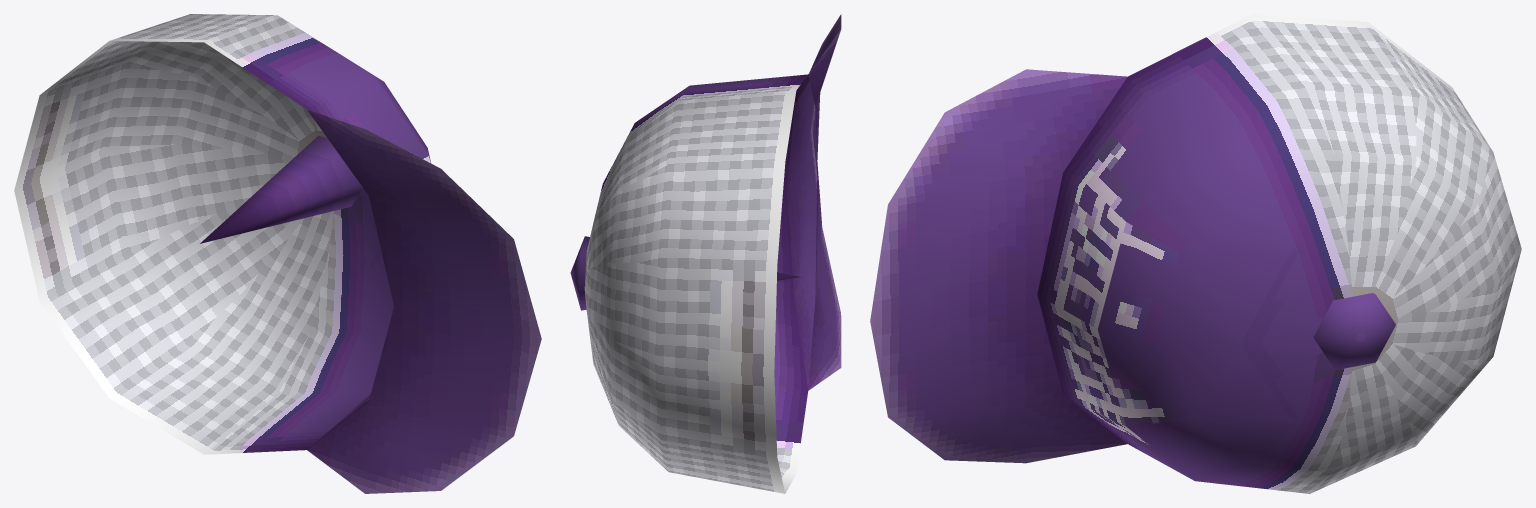
File: cap_cap_ppl.dae
The picture shows the model from 3 angles, left to right: view 1: azimuth 30°, elevation 25°; view 2: azimuth 150°, elevation 25°; view 3: azimuth 270°, elevation 25°; orthographic projection. The views are drawn at different scales.
Parts seen in each view (by area): view 1: cap_cap_ppl; view 2: cap_cap_ppl; view 3: cap_cap_ppl.
Part boxes in pixels (x1,y1,x2,y2): cap_cap_ppl: (14, 14, 541, 493); cap_cap_ppl: (570, 14, 841, 493); cap_cap_ppl: (870, 14, 1521, 493).
Size of the model in its own units: 15.43 by 21.14 by 28.04.
1 material, 1 textured.
